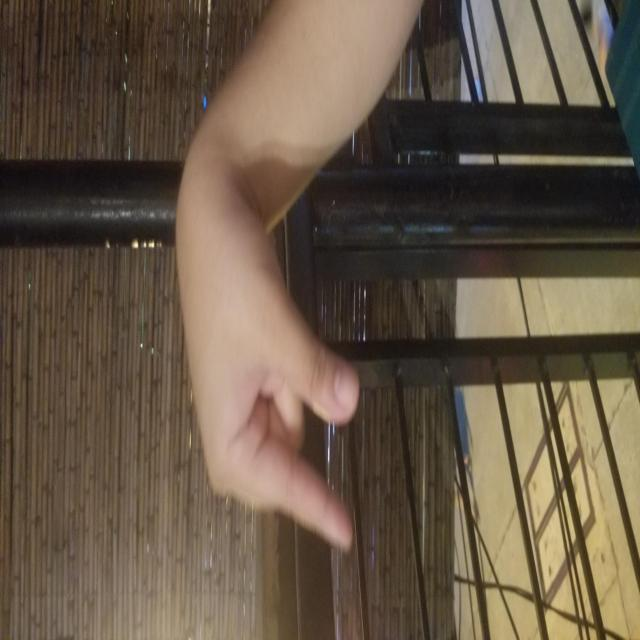Q: (87, 176, 428, 598)
